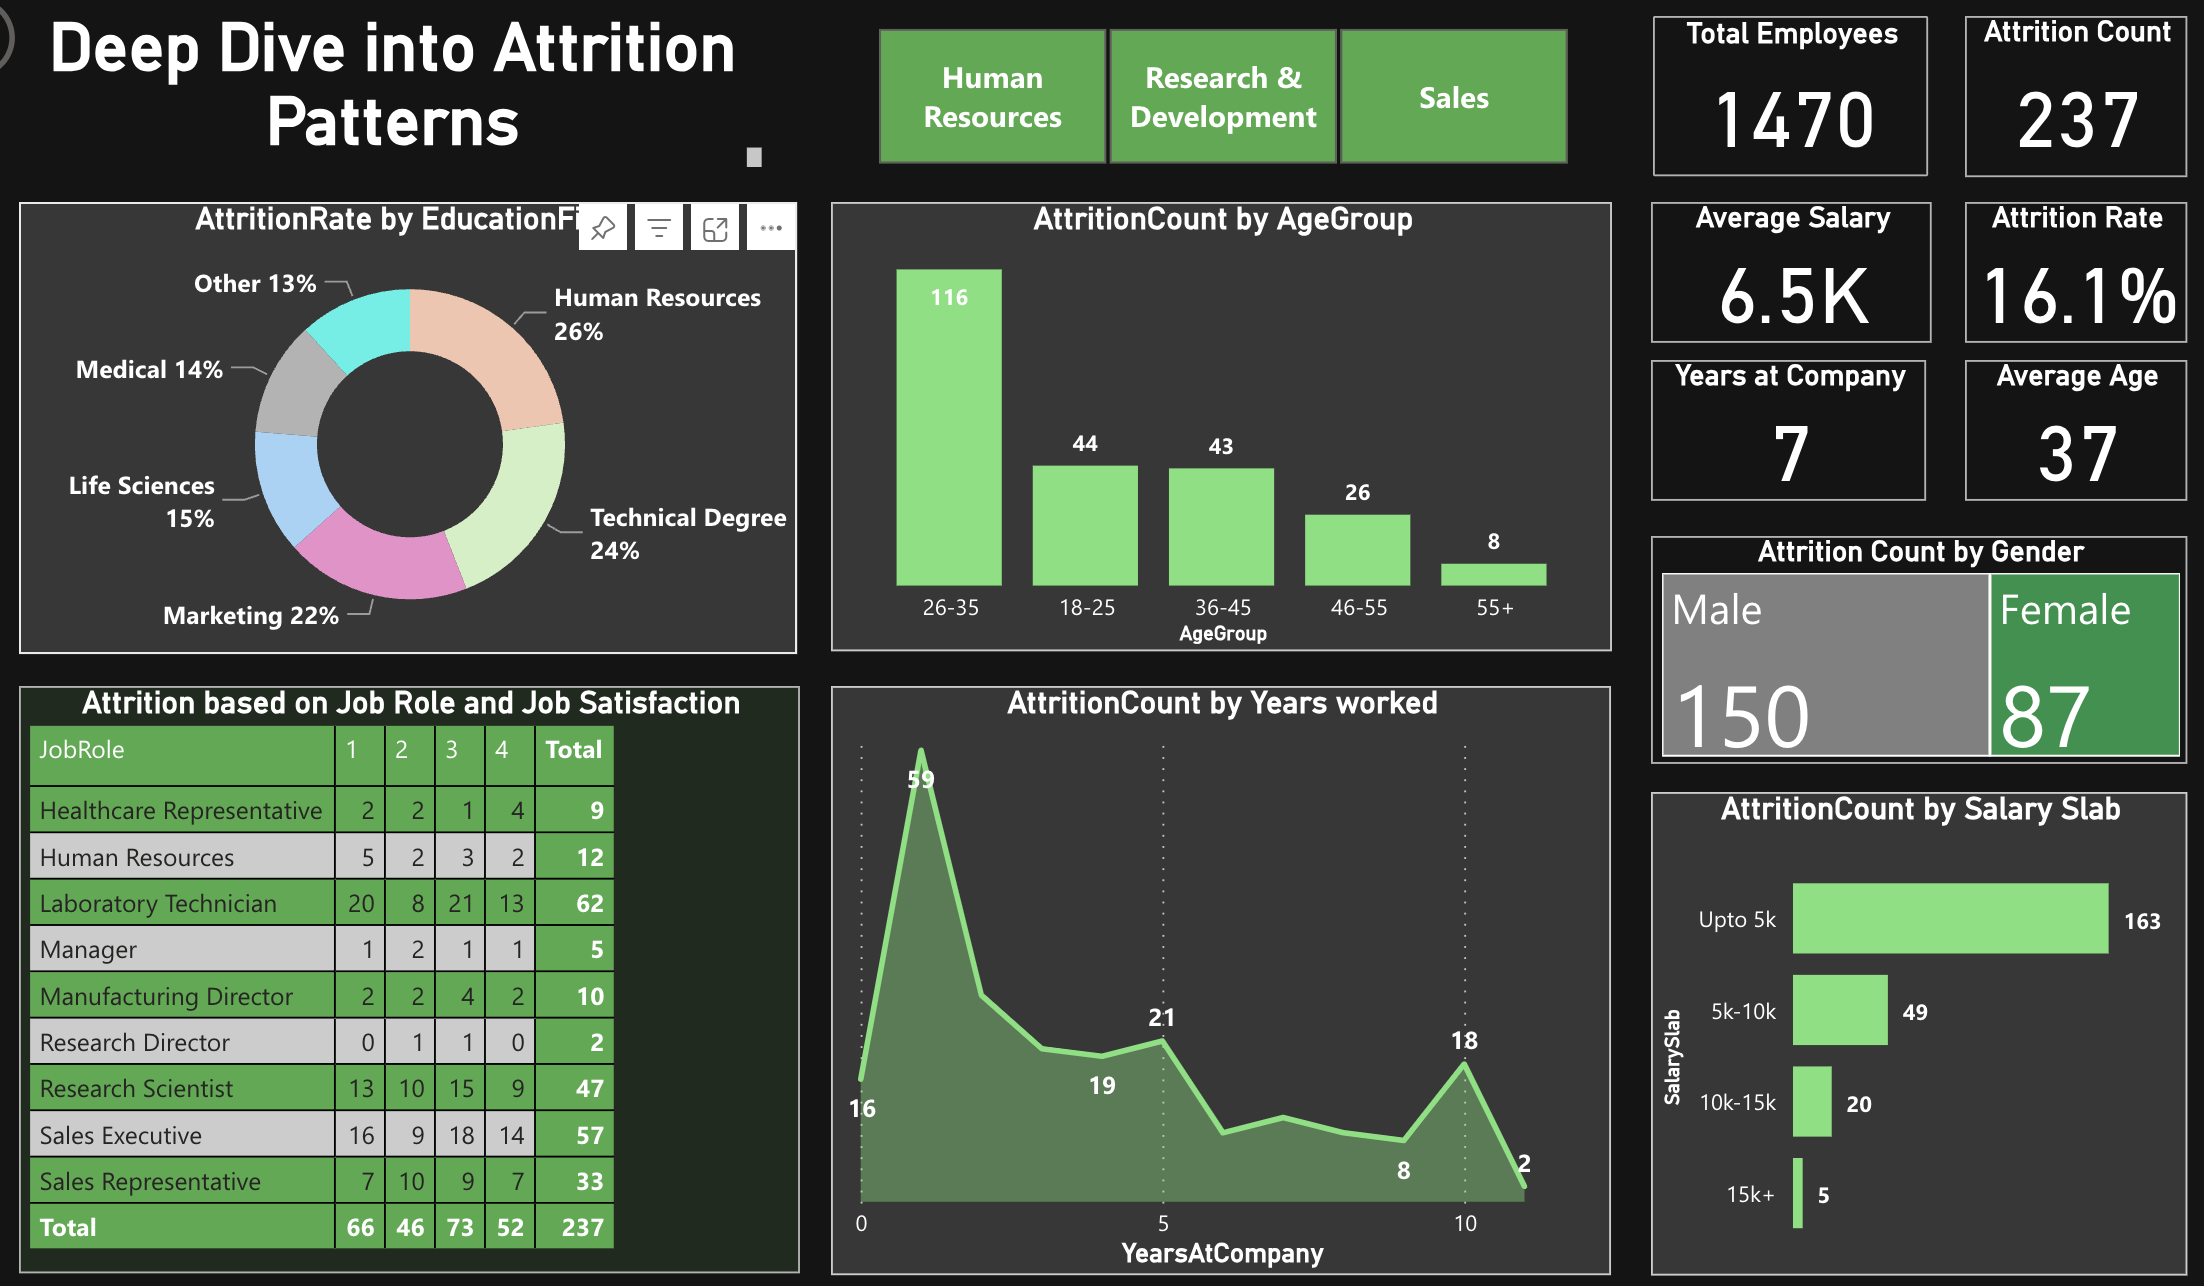

The dashboard page shown, as its layout file describes it:
{"tool":"powerbi","page":{"name":"Page 1","canvas":[1280,720],"ordinal":0},"visuals":[{"type":"card","title":"Total Employees","fields":{"Values":["CountNonNull(HR_Analytics.EmpID)"]},"box":[934.2,16.7,148.6,86.4],"z":0},{"type":"card","title":"Attrition Count","fields":{"Values":["Sum(HR_Analytics.AttritionCount)"]},"box":[1102.3,16.5,119.9,86.8],"z":1000},{"type":"actionButton","box":[0,0,100.9,55.8],"z":2000},{"type":"card","title":"Attrition Rate","fields":{"Values":["HR_Analytics.AttritionRate"]},"box":[1102.6,116.8,119.8,75.8],"z":3000},{"type":"card","title":"Average Age","fields":{"Values":["Avg(HR_Analytics.Age)"]},"box":[1102.6,201.7,119.8,75.8],"z":4000},{"type":"card","title":"Average Salary","fields":{"Values":["Avg(HR_Analytics.MonthlyIncome)"]},"box":[932.7,116.8,151.7,75.8],"z":5000},{"type":"card","title":"Years at Company","fields":{"Values":["Avg(HR_Analytics.YearsAtCompany)"]},"box":[932.7,201.7,148.6,75.8],"z":6000},{"type":"donutChart","fields":{"Category":["HR_Analytics.EducationField"],"Y":["HR_Analytics.AttritionRate"]},"box":[52,117,420,244],"z":7000},{"type":"columnChart","title":"AttritionCount by AgeGroup","fields":{"Category":["HR_Analytics.AgeGroup"],"Y":["Sum(HR_Analytics.AttritionCount)"]},"box":[489.9,116.8,421.6,242.7],"z":8000},{"type":"pivotTable","title":"Attrition based on Job Role and Job Satisfaction","fields":{"Rows":["HR_Analytics.JobRole"],"Columns":["HR_Analytics.JobSatisfaction"],"Values":["Sum(HR_Analytics.AttritionCount)"]},"box":[51.6,377.6,421.6,317],"z":9000},{"type":"barChart","title":"AttritionCount by Salary Slab","fields":{"Category":["HR_Analytics.SalarySlab"],"Y":["Sum(HR_Analytics.AttritionCount)"]},"box":[932.7,435.3,289.7,260.9],"z":10000},{"type":"areaChart","title":"AttritionCount by Years worked","fields":{"Category":["HR_Analytics.YearsAtCompany"],"Y":["Sum(HR_Analytics.AttritionCount)"]},"box":[489.7,378,420.9,317.9],"z":11000},{"type":"textbox","title":"Deep Dive into Attrition Patterns","box":[50,16.7,408,86.4],"z":12000},{"type":"treemap","title":"Attrition Count by Gender","fields":{"Values":["Sum(HR_Analytics.AttritionCount)"],"Group":["HR_Analytics.Gender"]},"box":[932.7,297.3,289.7,122.8],"z":13000},{"type":"slicer","fields":{"Values":["HR_Analytics.Department"]},"box":[489.9,16.7,421.6,86.4],"z":14000}]}

Visuals, with their boxes in screenshot pixels (x1, y1, x2, y2):
"Total Employees" card: bbox=[1642, 30, 1913, 188]
"Attrition Count" card: bbox=[1949, 30, 2168, 189]
actionButton: bbox=[0, 0, 121, 102]
"Attrition Rate" card: bbox=[1949, 213, 2168, 352]
"Average Age" card: bbox=[1949, 368, 2168, 506]
"Average Salary" card: bbox=[1639, 213, 1916, 352]
"Years at Company" card: bbox=[1639, 368, 1910, 506]
donutChart - HR_Analytics.EducationField x HR_Analytics.AttritionRate: bbox=[32, 214, 798, 659]
"AttritionCount by AgeGroup" columnChart: bbox=[831, 213, 1601, 656]
"Attrition based on Job Role and Job Satisfaction" pivotTable: bbox=[31, 689, 801, 1268]
"AttritionCount by Salary Slab" barChart: bbox=[1639, 795, 2168, 1271]
"AttritionCount by Years worked" areaChart: bbox=[831, 690, 1599, 1270]
"Deep Dive into Attrition Patterns" textbox: bbox=[28, 30, 773, 188]
"Attrition Count by Gender" treemap: bbox=[1639, 543, 2168, 767]
slicer - HR_Analytics.Department: bbox=[831, 30, 1601, 188]
